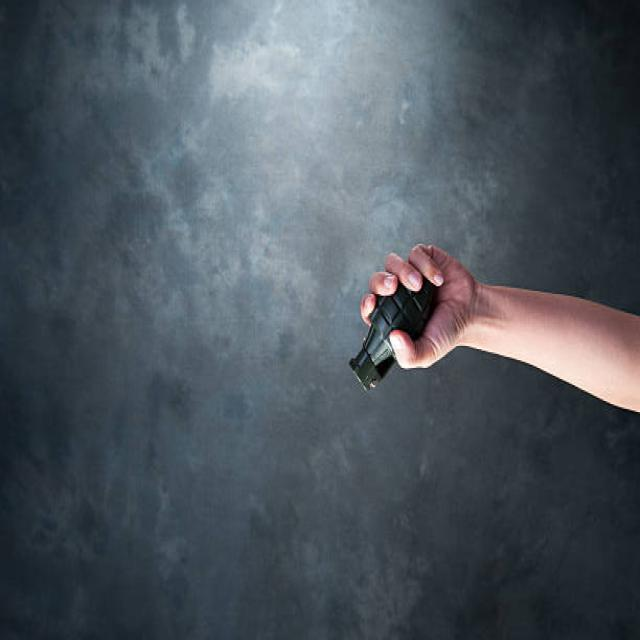grenade: (347, 263, 444, 399)
